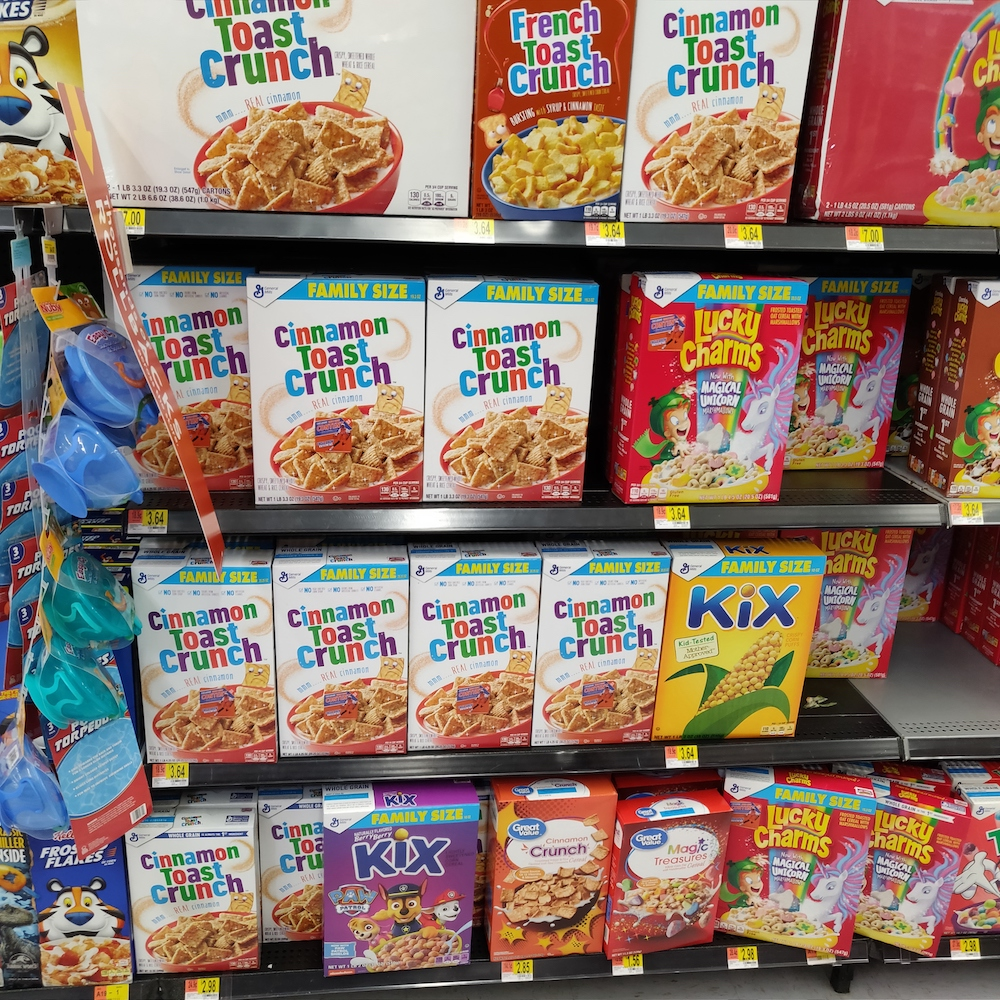Kix Berry -568919964: (319, 803, 484, 968)
Kix Crispy Corn-550051312: (667, 565, 814, 740)
